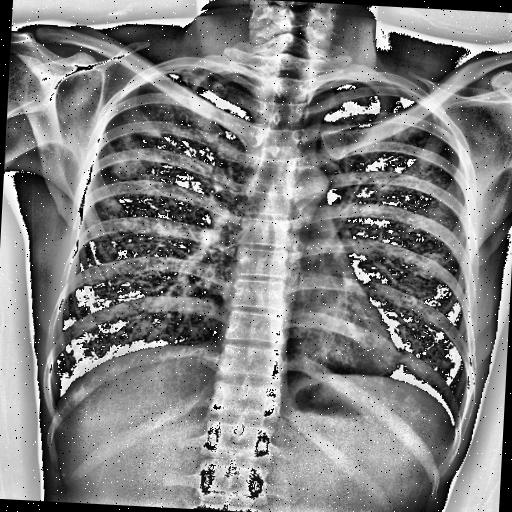13- Pulmonary fibrosis: (100, 126, 162, 230), (104, 112, 162, 220)
5- ILD: (76, 132, 246, 372), (318, 159, 476, 412)
7- Lung Opacity: (108, 118, 160, 214)
